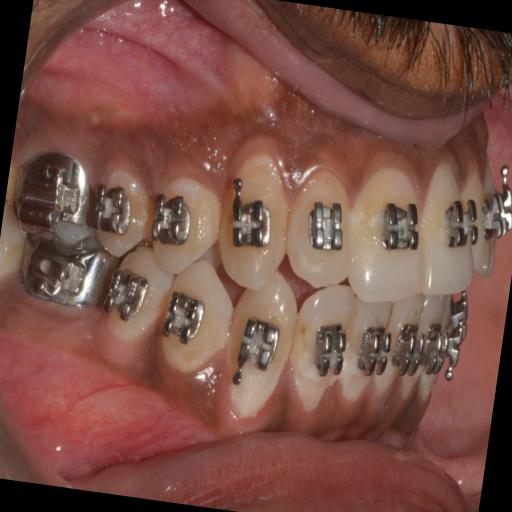correct_brace: (153, 252, 240, 383), (145, 158, 231, 282), (223, 188, 278, 258), (374, 195, 428, 265), (232, 310, 284, 380), (158, 286, 210, 348), (439, 187, 483, 256), (305, 195, 345, 258), (310, 318, 348, 383)
incorrect_brace: (279, 167, 364, 288), (288, 285, 362, 405), (148, 188, 196, 246)
